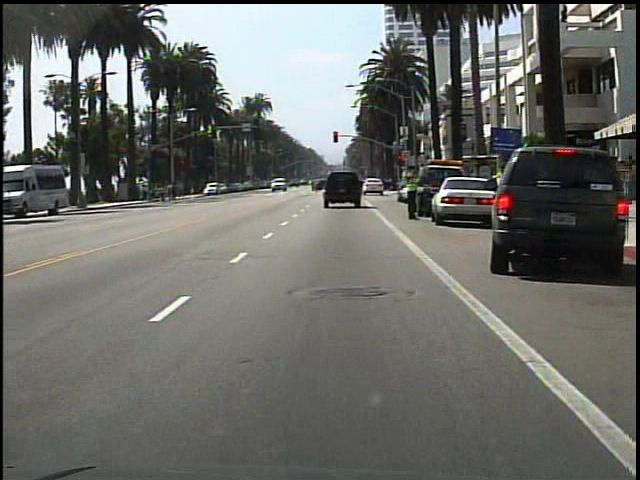person: (402, 165, 422, 221)
